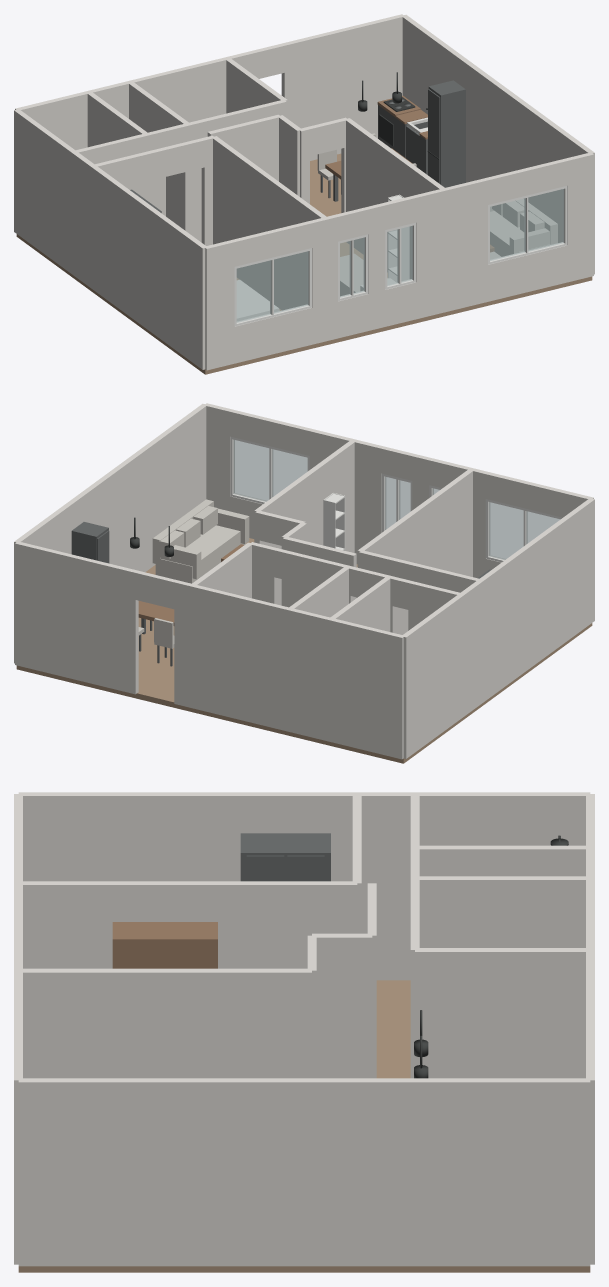
File: draft12-private.glb
3 views of the same model, one above another, from view 1: azimuth 30°, elevation 25°; view 2: azimuth 150°, elevation 25°; view 3: azimuth 270°, elevation 25° (orthographic). The views are drawn at different scales.
Visible parts, largest first — view 1: Nyugati külső fal, Keleti külső fal, Északi fal jobb, Hálók válaszfala, Déli tömör fal.003, Északi fal bal, Szoba és nappali válaszfala, Ablak üveg.003, Ablak üveg, Padló, Déli tömör fal, Déli tömör fal.004 (+35 smaller); view 2: Északi fal bal, Nyugati külső fal, Északi fal jobb, Keleti külső fal, Hálók válaszfala, Szoba és nappali válaszfala, Padló, Déli tömör fal.003, Ablak üveg.003, Déli tömör fal.004, Ablak üveg, Ablak feletti fal.003 (+28 smaller); view 3: Keleti külső fal, Nyugati külső fal, Szoba és nappali válaszfala, Hálók válaszfala, Tároló fala, WC és tároló fala, Középső szoba tört fal, Padló, Fürdő és WC fala, Második szoba tároló, Háló beépített szekrény, Északi fal jobb (+6 smaller).
Boxes of the visible parts, x1,y1,x2,y2 form: Nyugati külső fal: [14, 109, 205, 369]; Keleti külső fal: [401, 14, 594, 274]; Északi fal jobb: [281, 14, 403, 160]; Hálók válaszfala: [212, 136, 326, 310]; Déli tömör fal.003: [414, 178, 487, 319]; Északi fal bal: [15, 53, 245, 150]; Szoba és nappali válaszfala: [346, 118, 445, 278]; Ablak üveg.003: [490, 189, 563, 260]; Ablak üveg: [236, 251, 308, 322]; Padló: [16, 153, 592, 374]; Déli tömör fal: [204, 240, 234, 370]; Déli tömör fal.004: [565, 153, 593, 282]; Északi fal bal: [174, 580, 403, 759]; Nyugati külső fal: [401, 498, 594, 758]; Északi fal jobb: [15, 541, 138, 694]; Keleti külső fal: [14, 403, 206, 663]; Hálók válaszfala: [357, 469, 473, 634]; Szoba és nappali válaszfala: [254, 441, 354, 605]; Padló: [16, 538, 592, 763]; Déli tömör fal.003: [309, 429, 383, 564]; Ablak üveg.003: [233, 440, 307, 501]; Déli tömör fal.004: [204, 403, 232, 511]; Ablak üveg: [489, 502, 559, 559]; Ablak feletti fal.003: [230, 409, 311, 455]; Keleti külső fal: [18, 1078, 590, 1266]; Nyugati külső fal: [18, 792, 590, 980]; Szoba és nappali válaszfala: [23, 968, 311, 1078]; Hálók válaszfala: [23, 881, 357, 968]; Tároló fala: [415, 948, 589, 1078]; WC és tároló fala: [415, 876, 590, 947]; Középső szoba tört fal: [312, 933, 372, 1078]; Padló: [18, 980, 590, 1272]; Fürdő és WC fala: [415, 845, 590, 876]; Második szoba tároló: [112, 922, 217, 968]; Háló beépített szekrény: [240, 833, 330, 881]; Északi fal jobb: [586, 991, 594, 1264].
Bounding box in the file's own units: 9.12 × 2.82 × 7.72.
